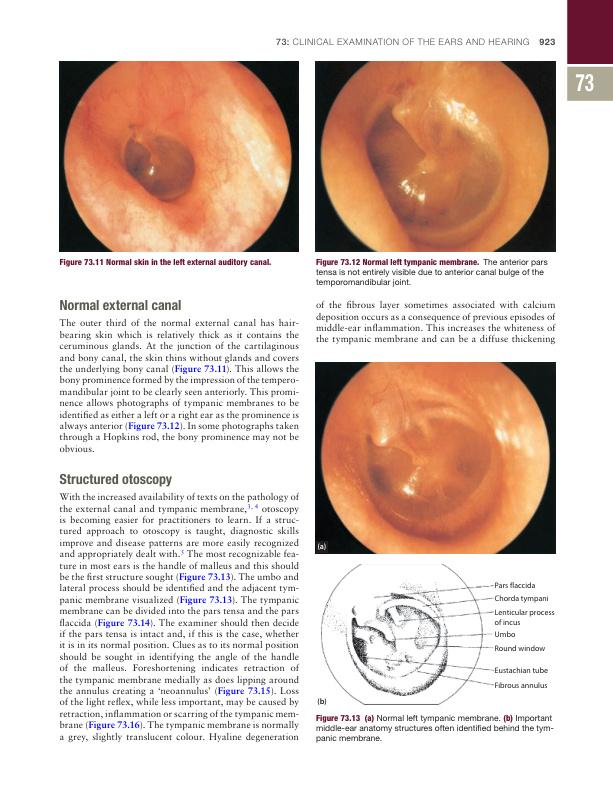caption: (315, 713, 554, 744), (314, 257, 550, 288), (59, 257, 272, 268), (316, 697, 327, 706), (317, 542, 327, 551)
header: (273, 36, 531, 47)
image: (314, 361, 557, 555), (58, 59, 300, 253), (314, 60, 557, 253), (313, 560, 556, 711)
sub-section-heading: (58, 298, 183, 312), (58, 473, 173, 488)
text: (57, 491, 302, 744), (58, 317, 301, 454), (314, 299, 557, 347)
